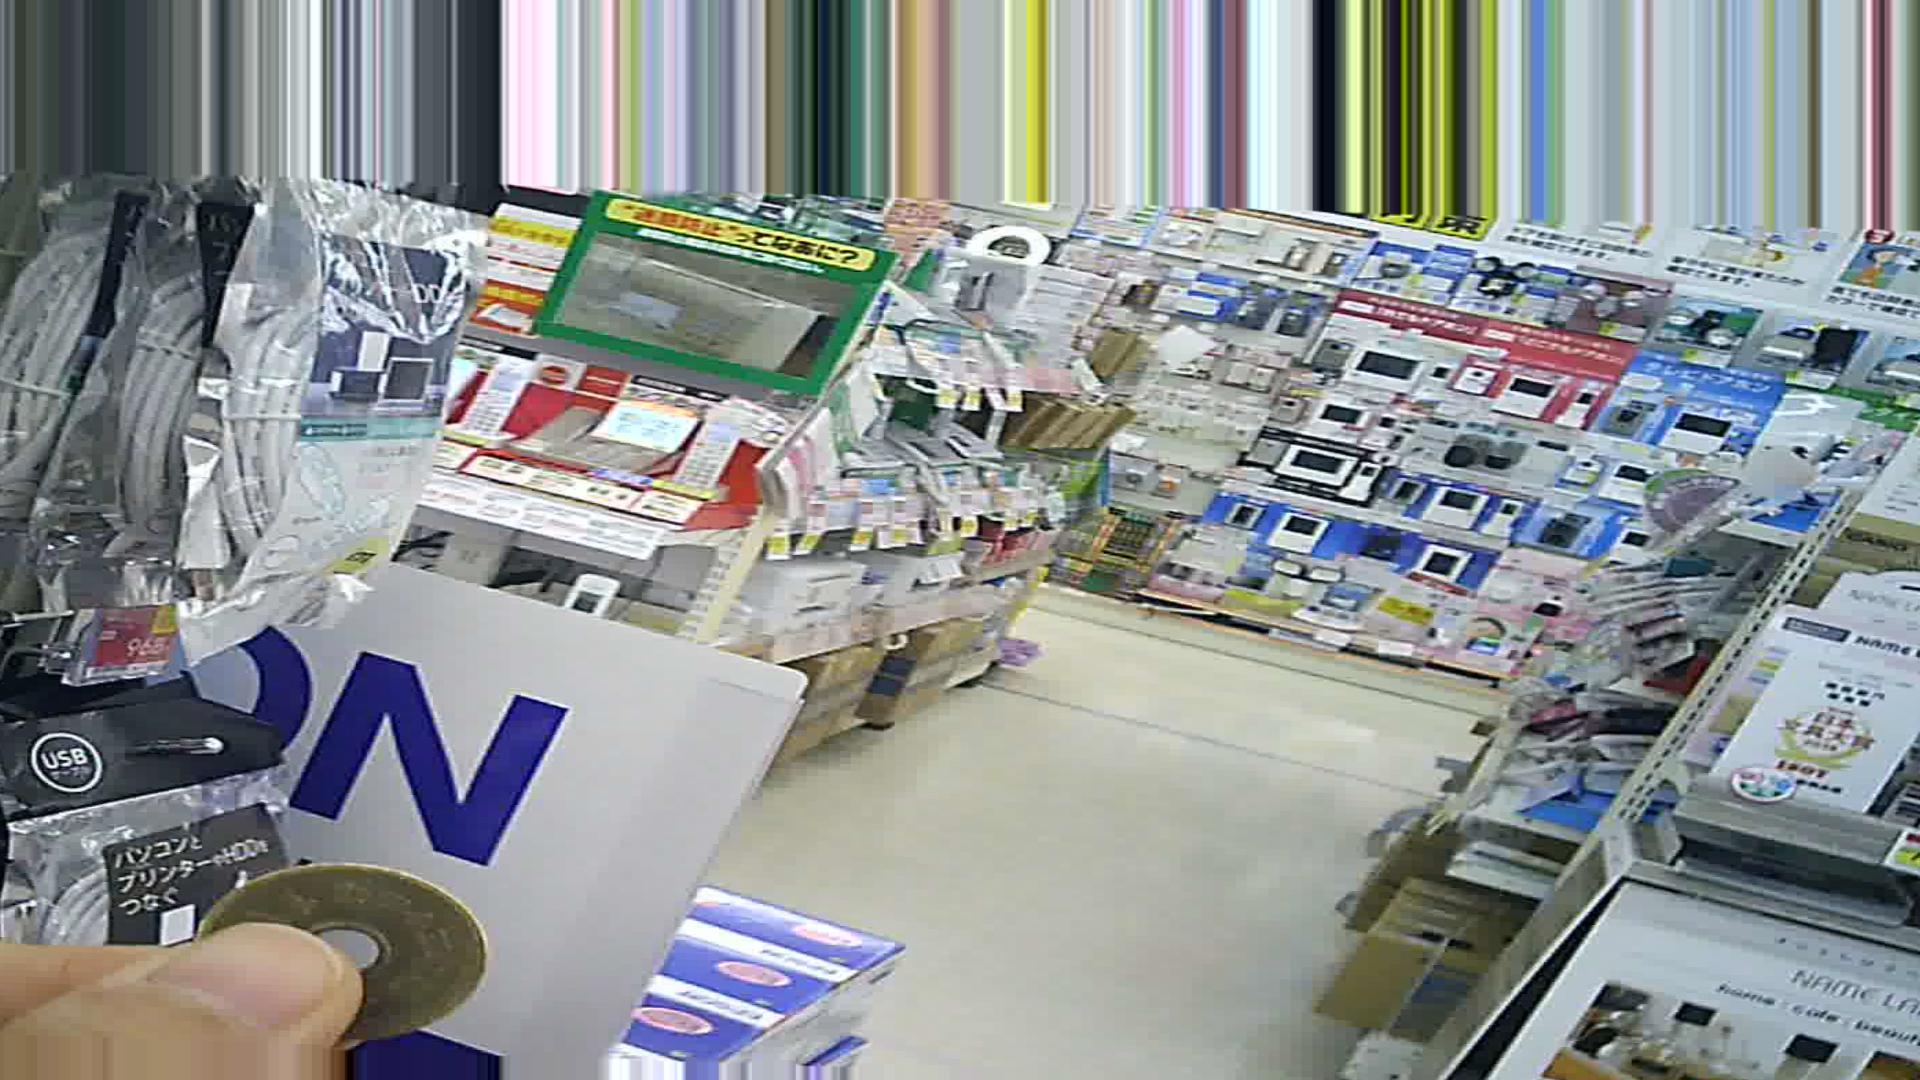5 Yen: (175, 851, 488, 1040)
